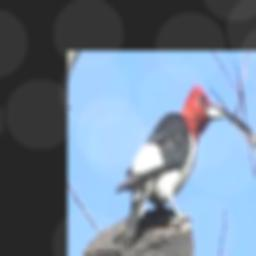Woodpecker: (116, 85, 226, 246)
